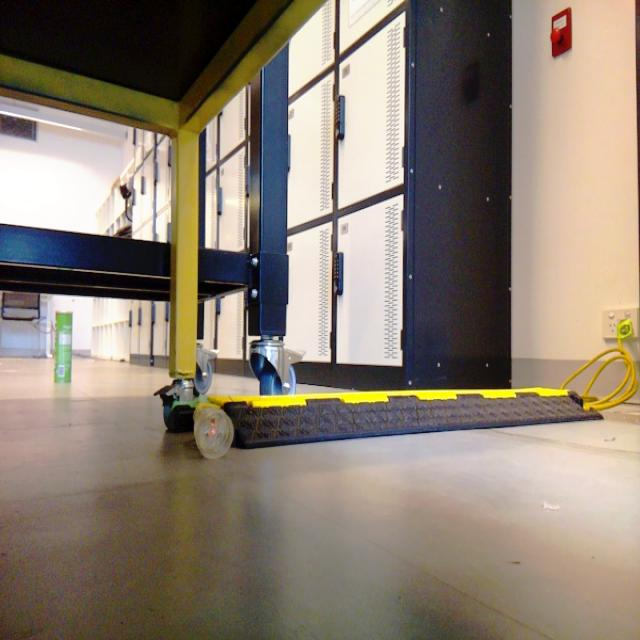greenpringles: (49, 293, 84, 399)
